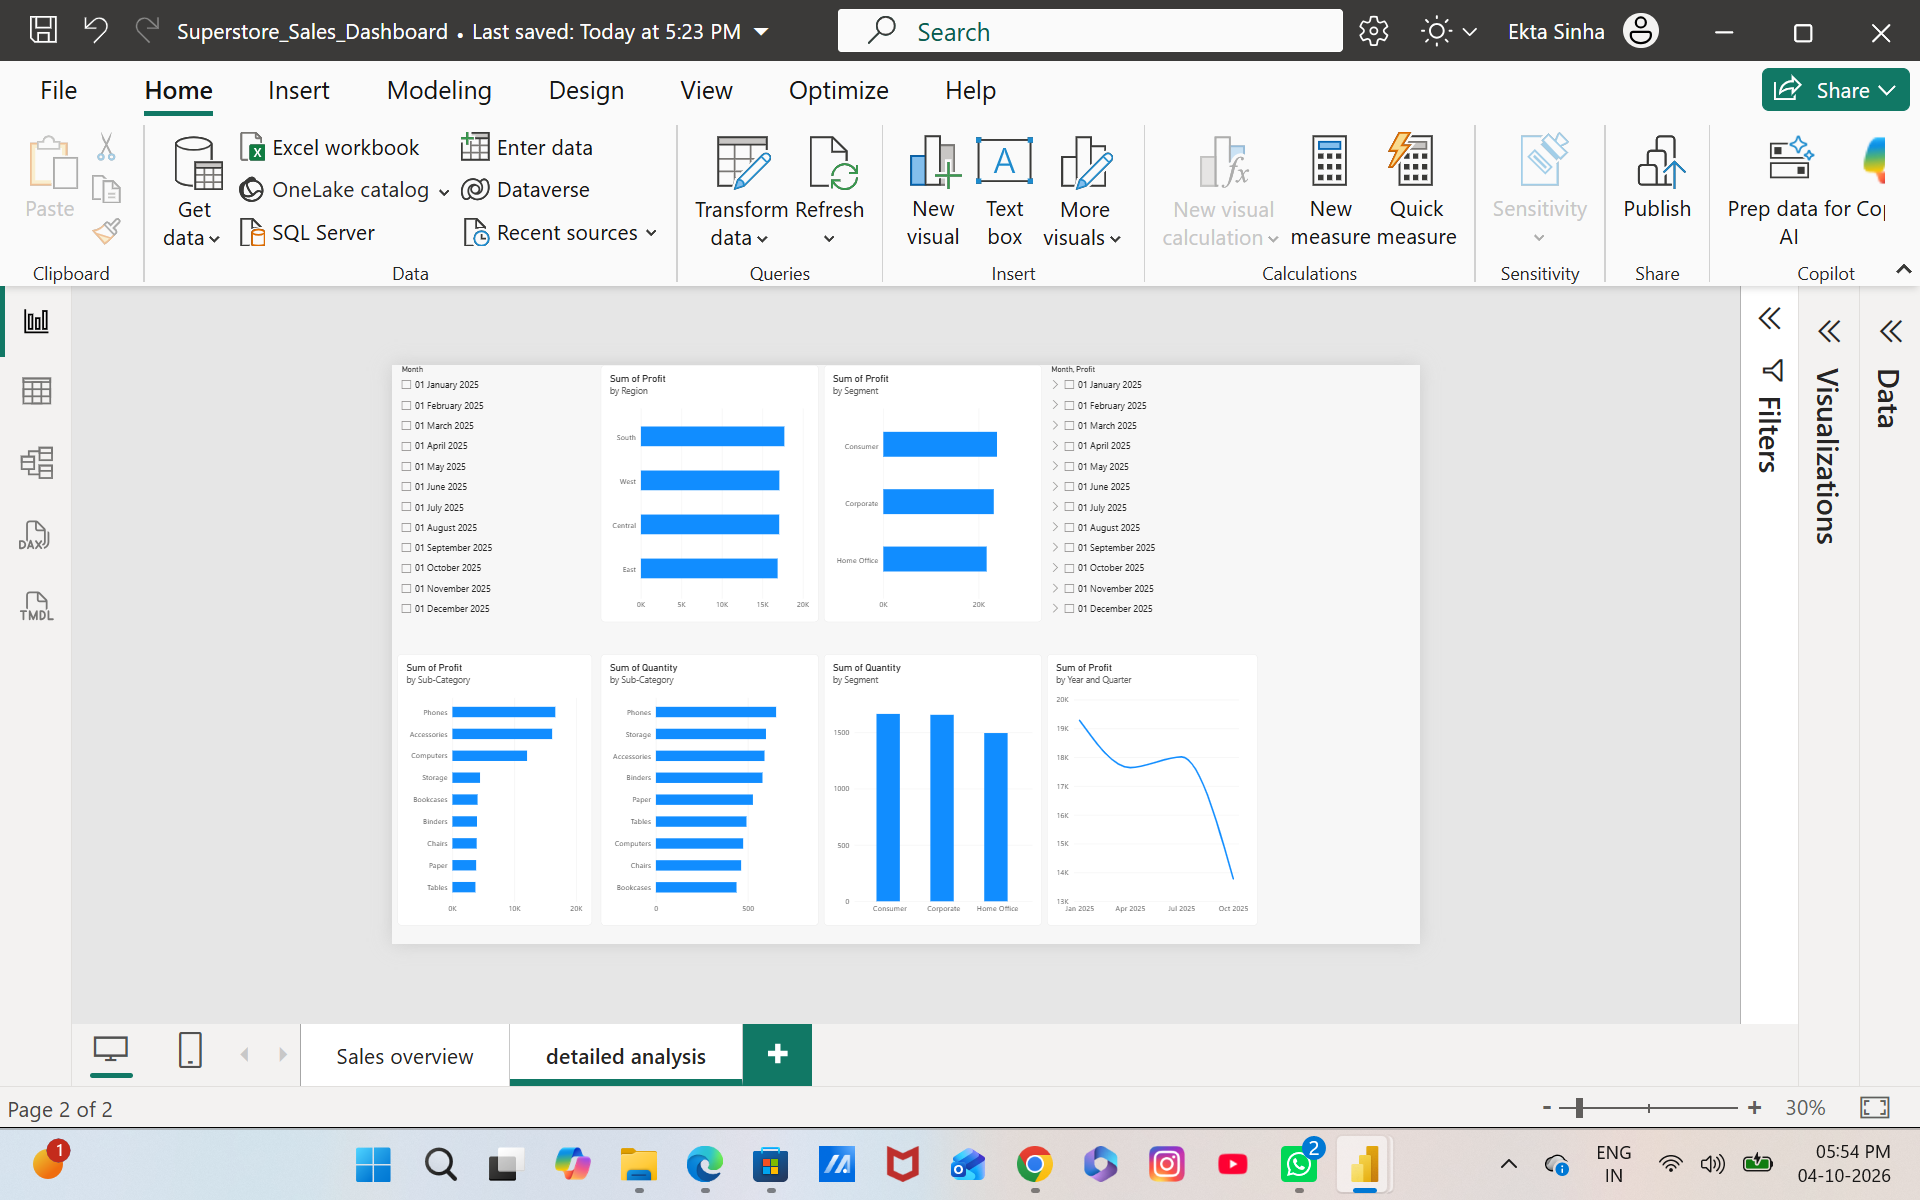

What the dashboard file says about the page in this screenshot:
{"tool":"powerbi","page":{"name":"detailed analysis","canvas":[1920,1080],"ordinal":1},"visuals":[{"type":"slicer","fields":{"Values":["Superstore_Sales_Task2.Month"]},"box":[10,0,266.7,480],"z":0},{"type":"clusteredBarChart","fields":{"Category":["Superstore_Sales_Task2.Sub-Category"],"Y":["Sum(Superstore_Sales_Task2.Profit)"]},"box":[10,540,363.3,506.7],"z":1},{"type":"clusteredBarChart","fields":{"Category":["Superstore_Sales_Task2.Region"],"Y":["Sum(Superstore_Sales_Task2.Profit)"]},"box":[390,0,406.7,480],"z":2},{"type":"clusteredBarChart","fields":{"Category":["Superstore_Sales_Task2.Sub-Category"],"Y":["Sum(Superstore_Sales_Task2.Quantity)"]},"box":[390,540,407,507],"z":3},{"type":"clusteredBarChart","fields":{"Category":["Superstore_Sales_Task2.Segment"],"Y":["Sum(Superstore_Sales_Task2.Profit)"]},"box":[807,0,407,480],"z":4},{"type":"clusteredColumnChart","fields":{"Category":["Superstore_Sales_Task2.Segment"],"Y":["Sum(Superstore_Sales_Task2.Quantity)"]},"box":[807,540,407,507],"z":5},{"type":"slicer","fields":{"Values":["Superstore_Sales_Task2.Month","Superstore_Sales_Task2.Profit"]},"box":[1223.3,0,393.3,480],"z":6},{"type":"lineChart","fields":{"Category":["Superstore_Sales_Task2.Month.Variation.Date Hierarchy.Year","Superstore_Sales_Task2.Month.Variation.Date Hierarchy.Quarter","Superstore_Sales_Task2.Month.Variation.Date Hierarchy.Month","Superstore_Sales_Task2.Month.Variation.Date Hierarchy.Day"],"Y":["Sum(Superstore_Sales_Task2.Profit)"]},"box":[1223,540,393,507],"z":7}]}

Visuals, with their boxes on the page's 1920x1080 design canvas (x1, y1, x2, y2). These are canvas units, not pixel positions in the 1920x1200 screenshot, which may show the page scaled, cropped or inside an application window:
slicer - Superstore_Sales_Task2.Month: x1=10 y1=0 x2=277 y2=480
clusteredBarChart - Superstore_Sales_Task2.Sub-Category x Sum(Superstore_Sales_Task2.Profit): x1=10 y1=540 x2=373 y2=1047
clusteredBarChart - Superstore_Sales_Task2.Region x Sum(Superstore_Sales_Task2.Profit): x1=390 y1=0 x2=797 y2=480
clusteredBarChart - Superstore_Sales_Task2.Sub-Category x Sum(Superstore_Sales_Task2.Quantity): x1=390 y1=540 x2=797 y2=1047
clusteredBarChart - Superstore_Sales_Task2.Segment x Sum(Superstore_Sales_Task2.Profit): x1=807 y1=0 x2=1214 y2=480
clusteredColumnChart - Superstore_Sales_Task2.Segment x Sum(Superstore_Sales_Task2.Quantity): x1=807 y1=540 x2=1214 y2=1047
slicer - Superstore_Sales_Task2.Month x Superstore_Sales_Task2.Profit: x1=1223 y1=0 x2=1617 y2=480
lineChart - Superstore_Sales_Task2.Month.Variation.Date Hierarchy.Year x Superstore_Sales_Task2.Month.Variation.Date Hierarchy.Quarter: x1=1223 y1=540 x2=1616 y2=1047
